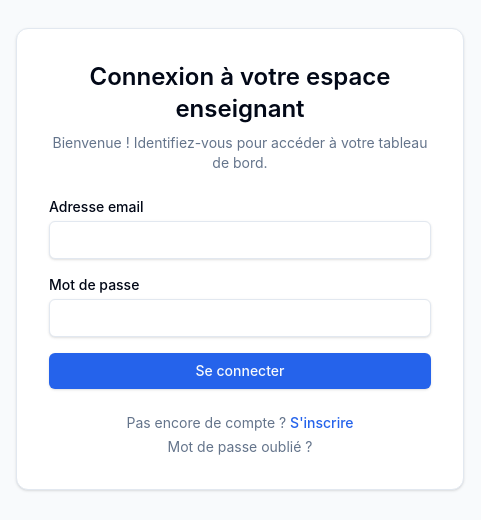
LoginPage › valide localement un mot de passe vide
This screenshot has width=481, height=520.
Type "a@b.fr" into the field labelled "Adresse email".
click(240, 240); type("a@b.fr")  # box [49,221,431,259]
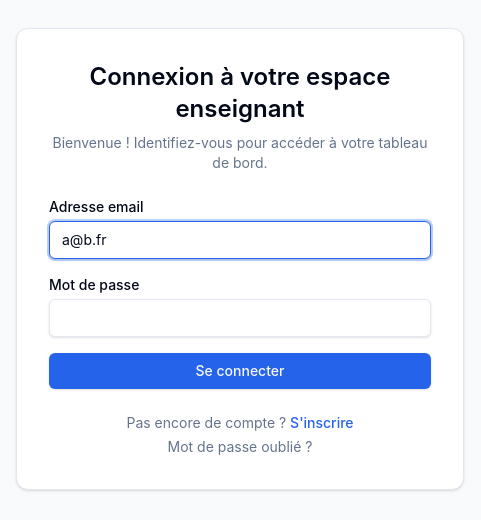
Click the button "Se connecter".
click(240, 371)  # box [49,353,431,389]
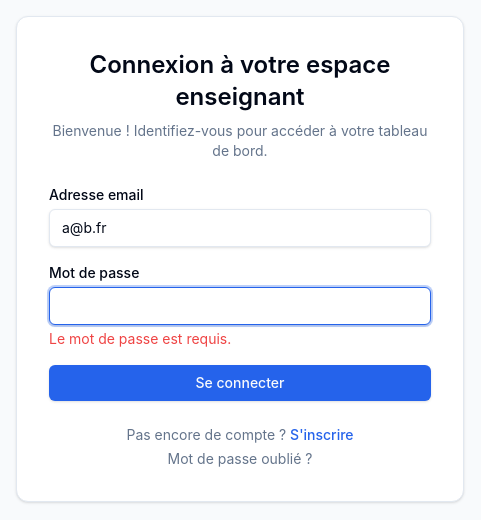
Now the text "Le mot de passe est requis." is shown, box [49,330,231,347]
